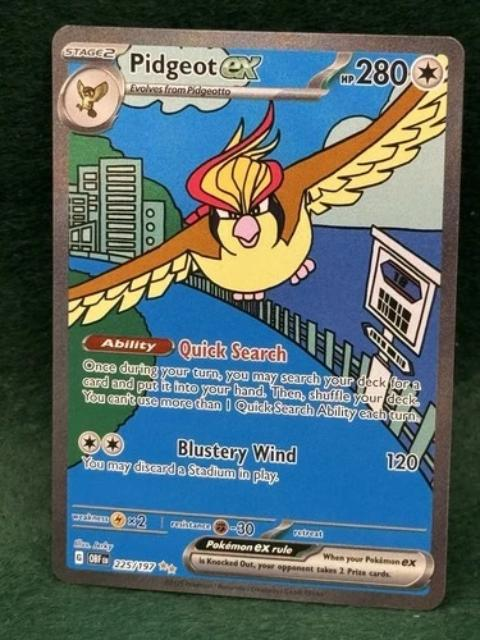Card: (44, 19, 471, 618)
Name: (125, 46, 276, 84)
